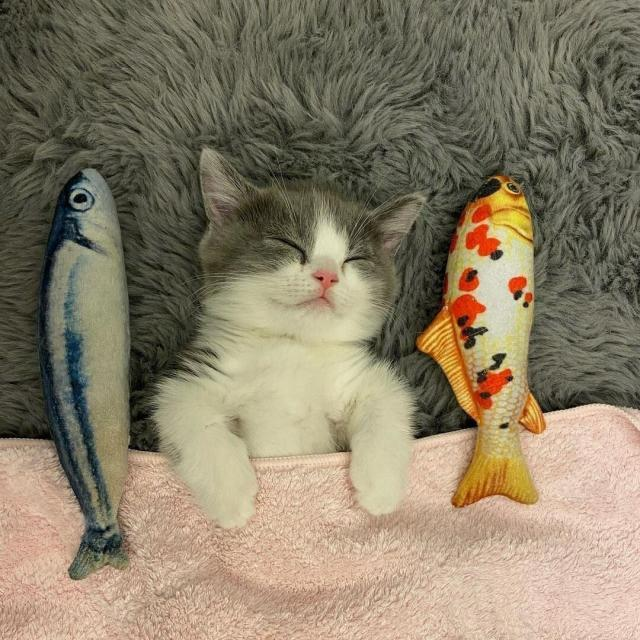cat: (142, 153, 456, 536)
